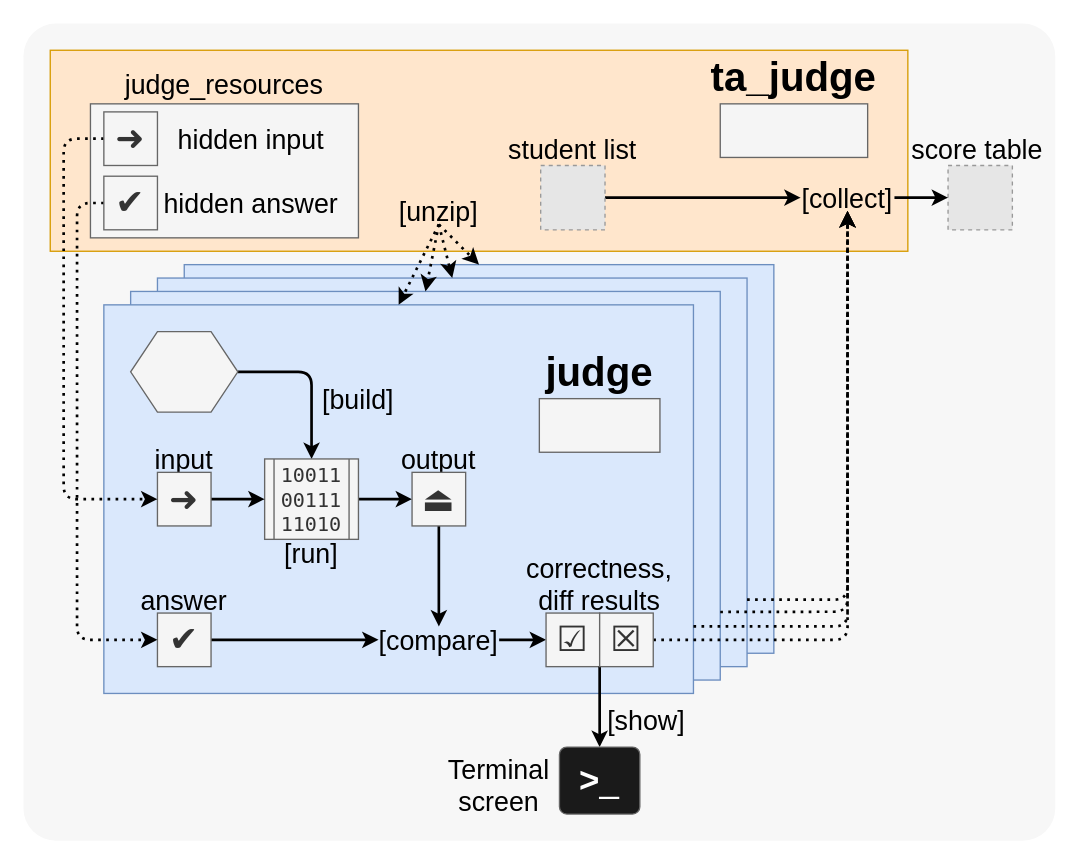
Image size: 1077x863. Some labels were removed from this diagram. Grey dashed boxes stand in for pictures. The shapes that lost their labels are listed below. From the top down, each one's box as (x1, y1, x2, y2) in pixels, then its label:
(719, 103, 868, 157): ⎔ ta_judge.conf
(129, 330, 238, 412): src
(538, 397, 660, 452): ⎔ judge.conf
